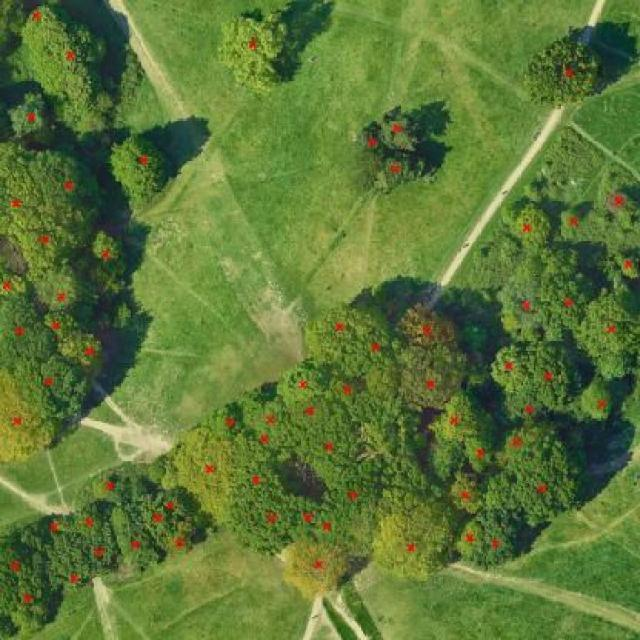tree: (479, 429, 590, 528), (512, 22, 619, 116), (154, 418, 243, 530), (0, 137, 91, 238), (27, 135, 121, 232), (368, 493, 467, 581), (101, 126, 193, 220), (214, 5, 301, 99), (569, 277, 640, 388), (32, 19, 123, 105), (11, 347, 107, 428), (0, 366, 74, 469), (229, 477, 311, 563), (398, 340, 482, 417), (222, 434, 301, 515), (300, 293, 386, 364), (14, 206, 94, 279), (0, 297, 65, 385), (526, 335, 594, 419), (543, 247, 599, 341), (283, 536, 360, 602), (298, 413, 365, 484), (0, 570, 69, 638), (391, 297, 471, 355), (425, 389, 506, 445), (339, 315, 407, 381), (238, 391, 307, 455), (114, 499, 166, 582), (33, 263, 105, 320), (2, 90, 67, 153), (57, 85, 129, 141), (472, 217, 520, 301), (494, 418, 568, 472), (8, 0, 81, 54), (496, 189, 555, 252), (54, 331, 123, 384), (498, 268, 549, 339), (481, 508, 534, 575), (373, 147, 452, 191), (570, 374, 625, 432), (274, 359, 340, 405), (487, 331, 530, 398), (78, 466, 150, 506), (364, 351, 413, 406), (453, 505, 490, 577), (286, 391, 345, 435), (0, 525, 45, 582), (498, 387, 557, 430), (196, 403, 256, 445), (286, 486, 331, 542), (422, 431, 469, 482), (86, 224, 132, 276), (448, 470, 495, 518), (65, 502, 118, 543), (156, 525, 210, 565), (382, 101, 421, 156), (304, 503, 351, 548), (47, 560, 107, 594), (81, 533, 128, 576), (0, 259, 38, 312), (464, 427, 502, 479), (36, 312, 104, 340), (159, 487, 207, 525), (348, 116, 386, 161), (558, 203, 595, 249), (36, 508, 75, 545), (518, 172, 555, 208), (139, 495, 173, 534), (492, 306, 526, 345), (607, 244, 640, 284), (598, 183, 636, 217), (143, 449, 172, 488)
